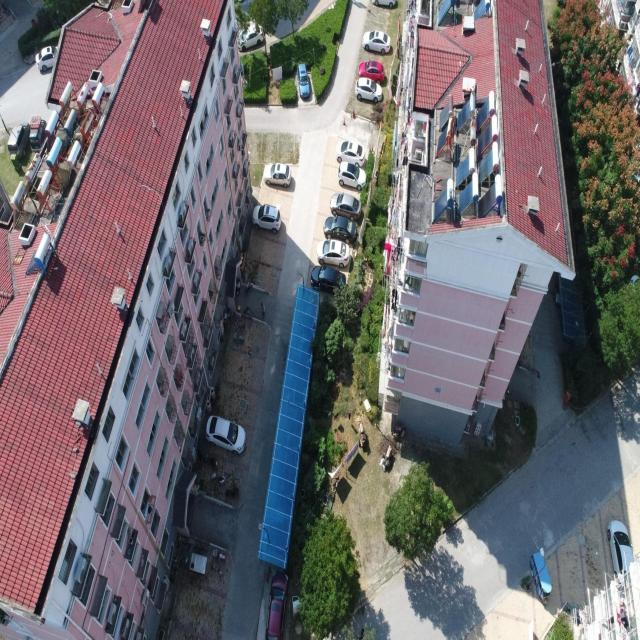p3rson: (235, 280, 240, 294), (245, 280, 250, 294), (261, 302, 265, 316)
